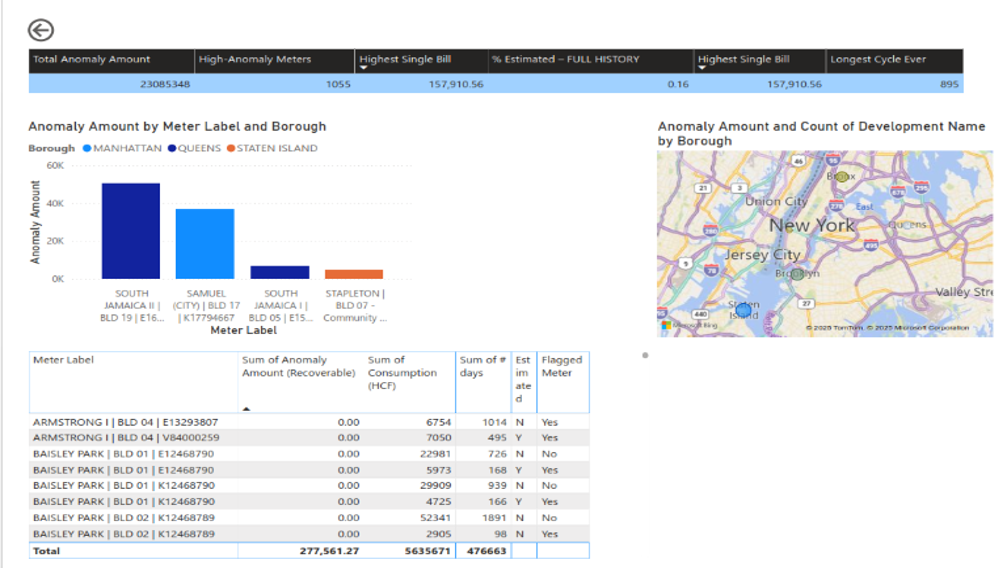

The page's visual inventory and layout, read from the dashboard file:
{"tool":"powerbi","page":{"name":"Diagnostic analysis","canvas":[1280,720],"ordinal":1},"visuals":[{"type":"tableEx","fields":{"Values":["Cleaned data.Total Anomaly Amount","Cleaned data.High-Anomaly Meters","Cleaned data.Highest Single Bill","Cleaned data.% Estimated – FULL HISTORY","Cleaned data.Highest Single Bill","Cleaned data.Longest Cycle Ever"]},"box":[0,40,1100,95],"z":0},{"type":"actionButton","box":[0,0,100,40],"z":1000},{"type":"columnChart","fields":{"Category":["Cleaned data.Meter Label"],"Y":["Cleaned data.Anomaly Amount"],"Series":["Cleaned data.Borough"]},"box":[0,136,456,292],"z":2000},{"type":"map","fields":{"Size":["Cleaned data.Anomaly Amount"],"Category":["Cleaned data.Borough"]},"box":[726,136,396,292],"z":3000},{"type":"tableEx","fields":{"Values":["Cleaned data.Meter Label","Sum(Cleaned data.Anomaly Amount (Recoverable))","Sum(Cleaned data.Consumption (HCF))","Sum(Cleaned data.# days)","Cleaned data.Estimated","Cleaned data.Flagged Meter"]},"box":[0,438,726,282],"z":4000}]}

Visuals, with their boxes in screenshot pixels (x1, y1, x2, y2), scaled from the page's 1280x720 canvas onto the 1008x568 screenshot:
tableEx - Cleaned data.Total Anomaly Amount x Cleaned data.High-Anomaly Meters: [0,32,866,106]
actionButton: [0,0,79,32]
columnChart - Cleaned data.Meter Label x Cleaned data.Anomaly Amount: [0,107,359,338]
map - Cleaned data.Anomaly Amount x Cleaned data.Borough: [572,107,884,338]
tableEx - Cleaned data.Meter Label x Sum(Cleaned data.Anomaly Amount (Recoverable)): [0,346,572,567]
